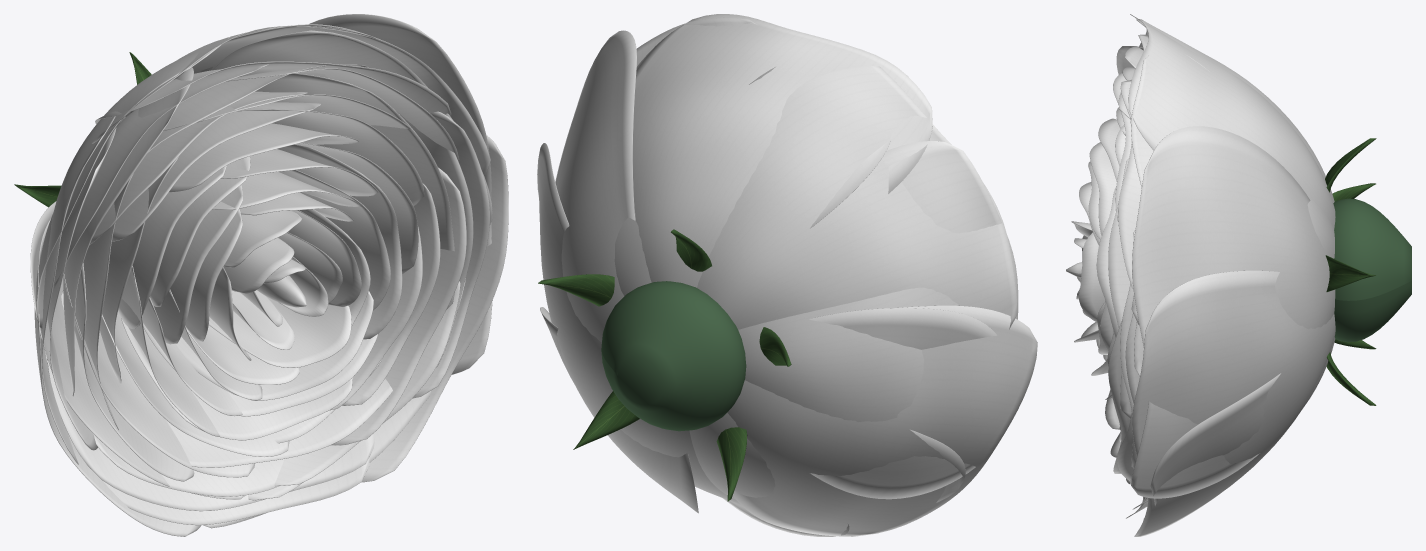
Rendered from rose-0-high.glb.
3 views of the same model, side by side, from view 1: azimuth 30°, elevation 25°; view 2: azimuth 150°, elevation 25°; view 3: azimuth 270°, elevation 25° (orthographic). The views are drawn at different scales.
Parts seen in each view (by area): view 1: Rose_0_high_Petals, Rose_0_high_Sepals; view 2: Rose_0_high_Petals, Rose_0_high_Receptacle, Rose_0_high_Sepals; view 3: Rose_0_high_Petals, Rose_0_high_Receptacle, Rose_0_high_Sepals.
Part boxes in pixels (x1,y1,x2,y2): Rose_0_high_Petals: (30, 14, 508, 536); Rose_0_high_Sepals: (14, 52, 151, 207); Rose_0_high_Petals: (537, 14, 1037, 536); Rose_0_high_Receptacle: (601, 281, 746, 431); Rose_0_high_Sepals: (538, 229, 791, 501); Rose_0_high_Petals: (1066, 14, 1335, 536); Rose_0_high_Receptacle: (1333, 198, 1411, 342); Rose_0_high_Sepals: (1325, 138, 1376, 405).
Bounding box in the file's own units: 0.7584 × 0.7429 × 0.5047.
Materials: 3 (2 with a texture image).
